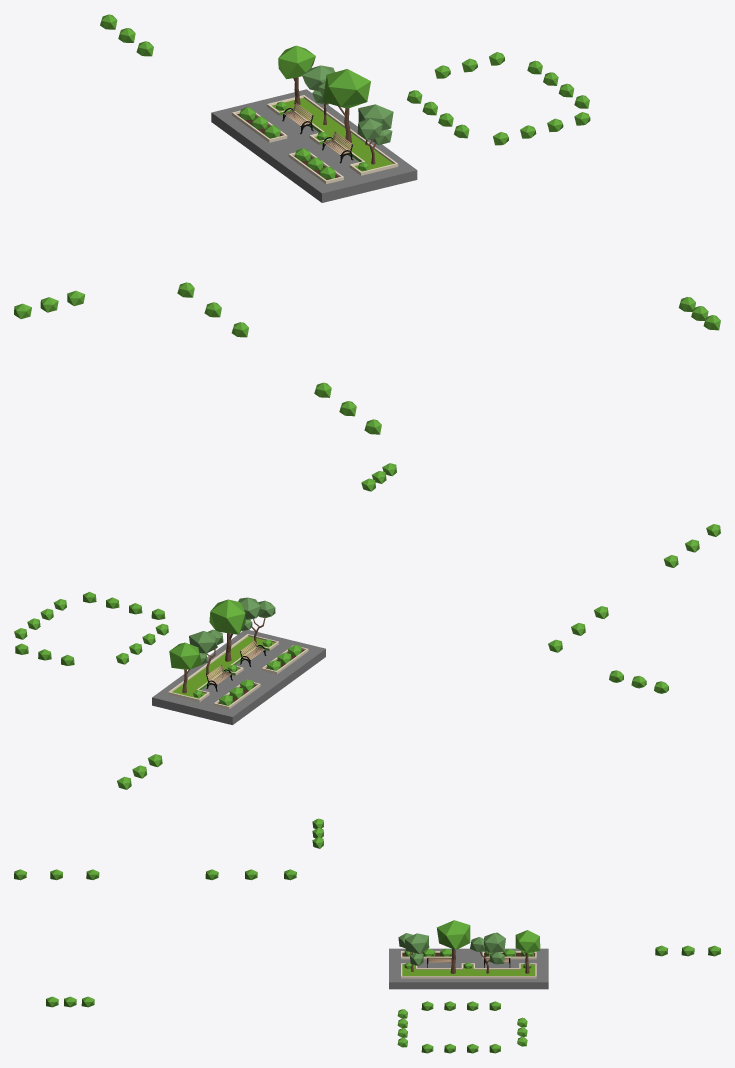
Rendered from park.fbx.
The picture shows the model from 3 angles, top to bottom: view 1: azimuth 30°, elevation 25°; view 2: azimuth 150°, elevation 25°; view 3: azimuth 270°, elevation 25°; orthographic projection. The views are drawn at different scales.
Visible parts, largest first — view 1: tree2.005; view 2: tree2.005; view 3: tree2.005.
Part boxes in pixels (x1,y1,x2,y2): tree2.005: (14,14,720,434); tree2.005: (14,463,720,789); tree2.005: (14,818,720,1053).
Bounding box in the file's own units: 2.71 × 0.3348 × 3.55.
